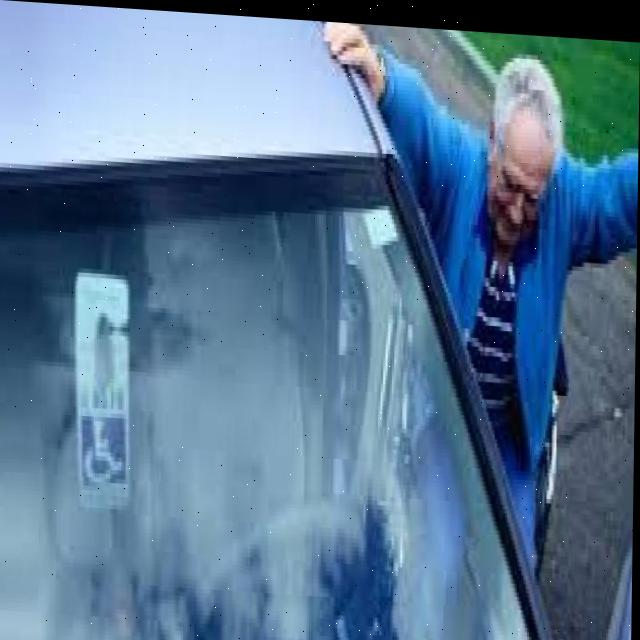symbol_of_access: (86, 417, 127, 481)
